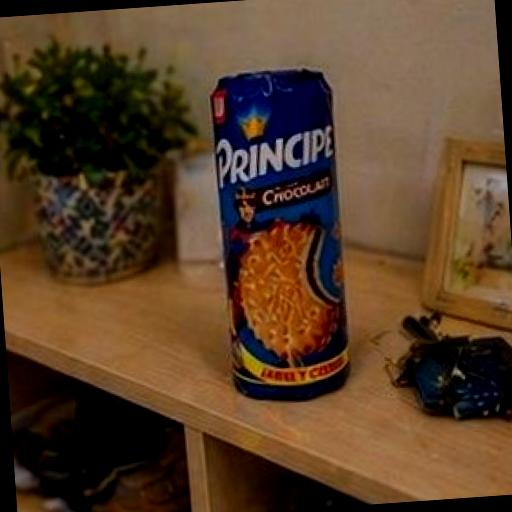prince: (100, 21, 454, 477)
